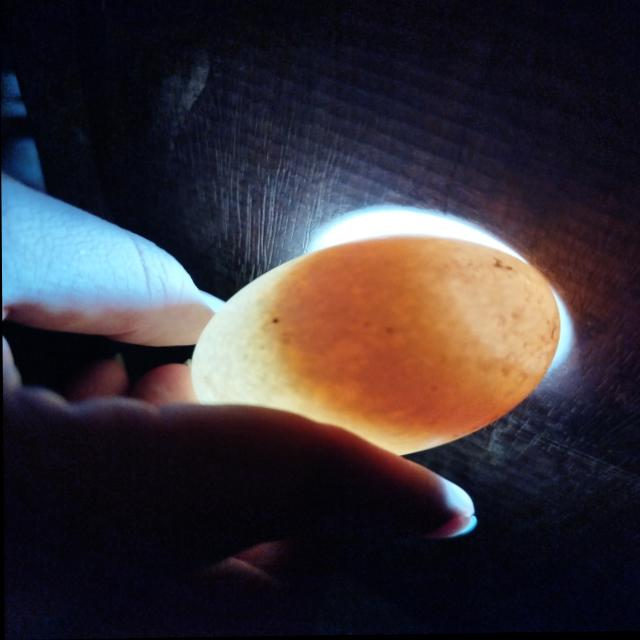Camara de Ar: (433, 240, 558, 373)
Gema Quebrada: (269, 237, 524, 440)
